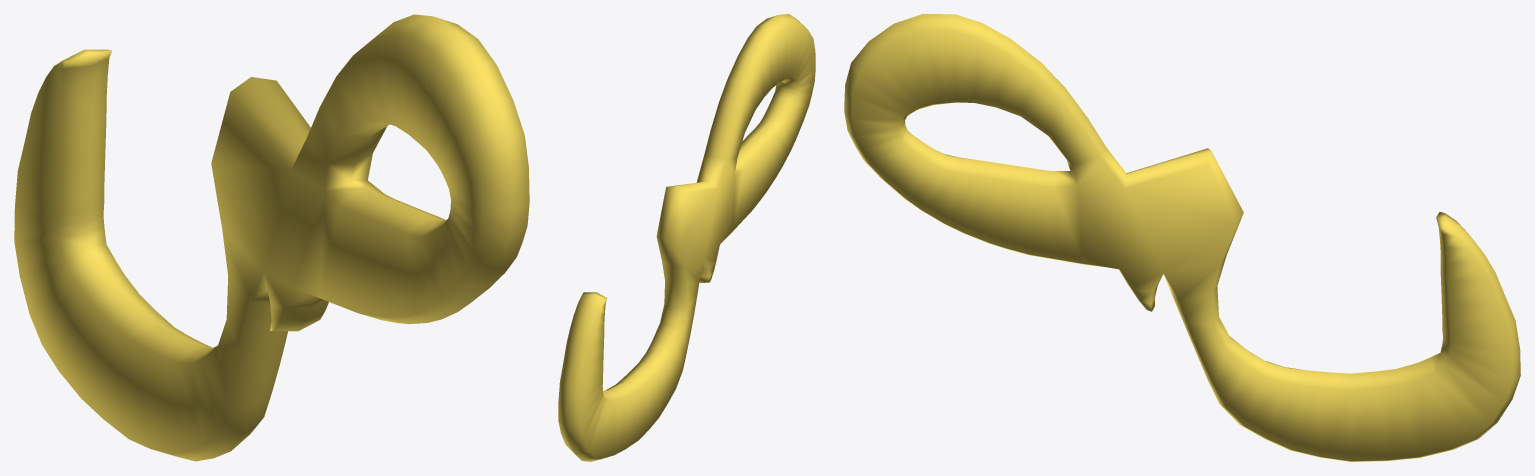
The model's file is sad.FBX.
3 renders of one model, left to right at view 1: azimuth 30°, elevation 25°; view 2: azimuth 150°, elevation 25°; view 3: azimuth 270°, elevation 25°, orthographic. The views are drawn at different scales.
Visible parts, largest first — view 1: sad; view 2: sad; view 3: sad.
Part boxes in pixels (x1,y1,x2,y2): sad: [14, 14, 529, 461]; sad: [558, 14, 815, 461]; sad: [844, 14, 1520, 461].
Size of the model in its own units: 12.3 by 219 by 160.
Materials: 1 (1 with a texture image).
